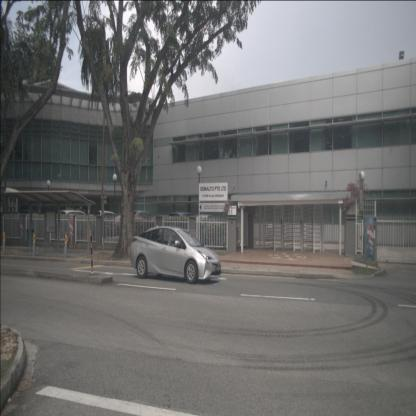vehicle-car: (130, 226, 220, 284), (129, 210, 160, 236)
